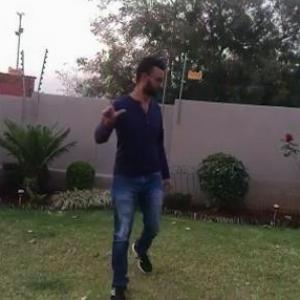land_hand: (99, 90, 128, 126)
